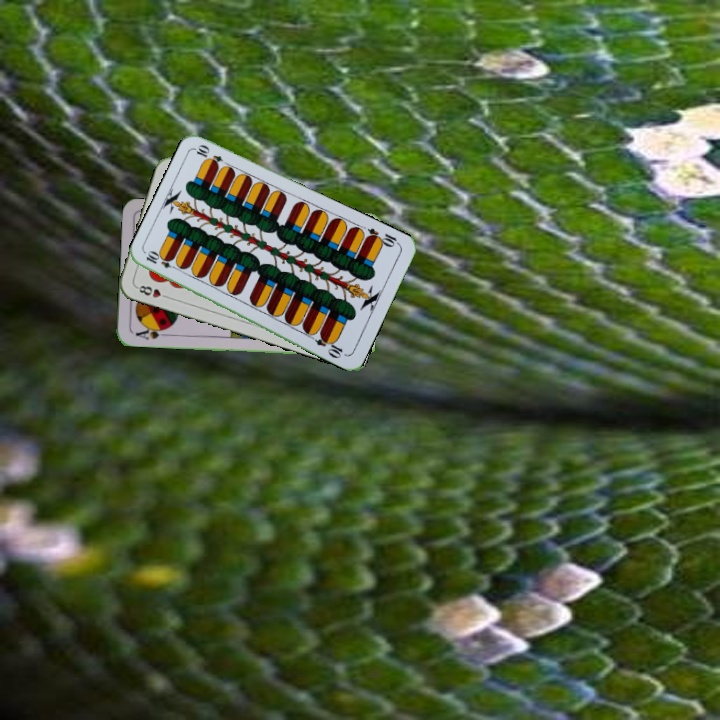E10: (362, 224, 402, 250), (142, 248, 181, 273)
H8: (132, 281, 172, 301)
SA: (131, 323, 171, 342)
